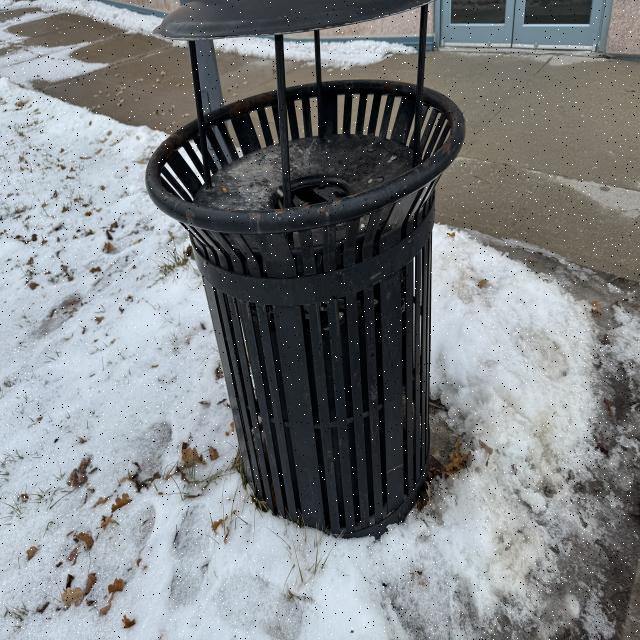Dustbin: (144, 0, 466, 536)
